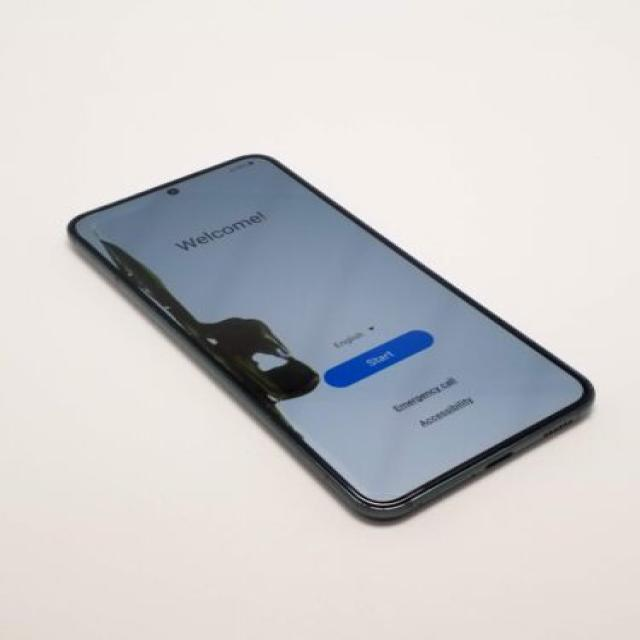dead pixel: (64, 224, 340, 457)
